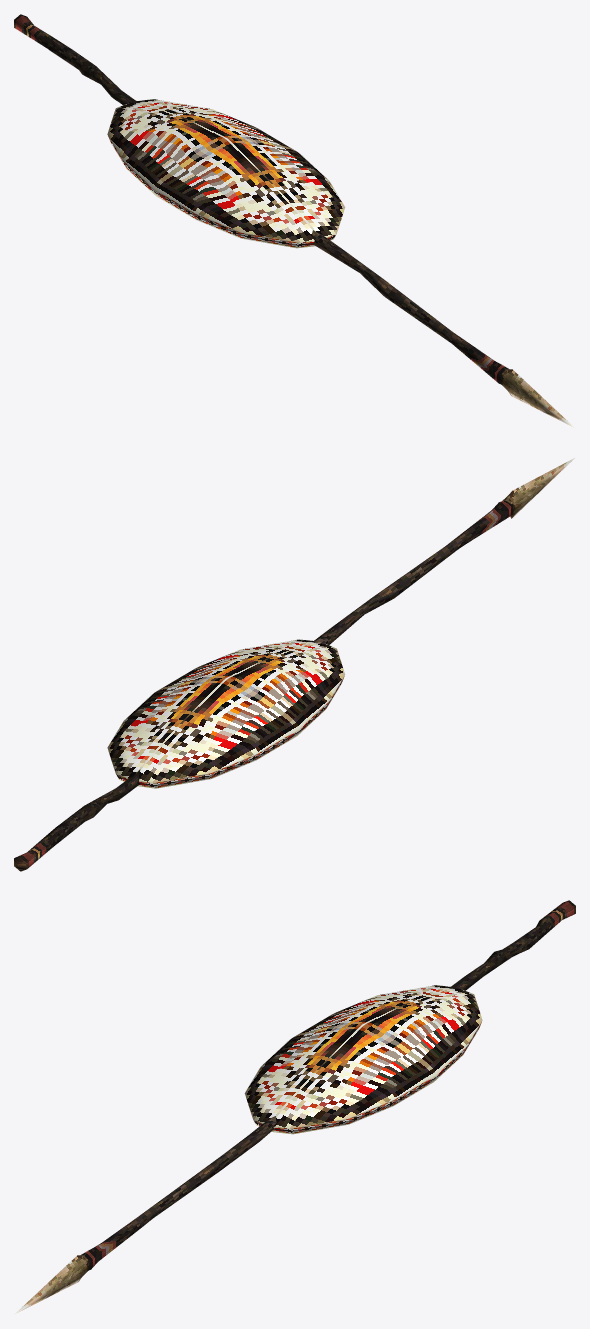
The picture shows the model from 3 angles, top to bottom: view 1: azimuth 30°, elevation 25°; view 2: azimuth 150°, elevation 25°; view 3: azimuth 330°, elevation 25°; orthographic projection.
Visible parts, largest first — view 1: weapon/we122.pac; view 2: weapon/we122.pac; view 3: weapon/we122.pac.
Part boxes in pixels (x1,y1,x2,y2): weapon/we122.pac: (14,14,575,428); weapon/we122.pac: (14,458,574,871); weapon/we122.pac: (14,900,575,1314).
Bounding box in the file's own units: 58.49 × 18.81 × 388.
Materials: 3 (3 with a texture image).
